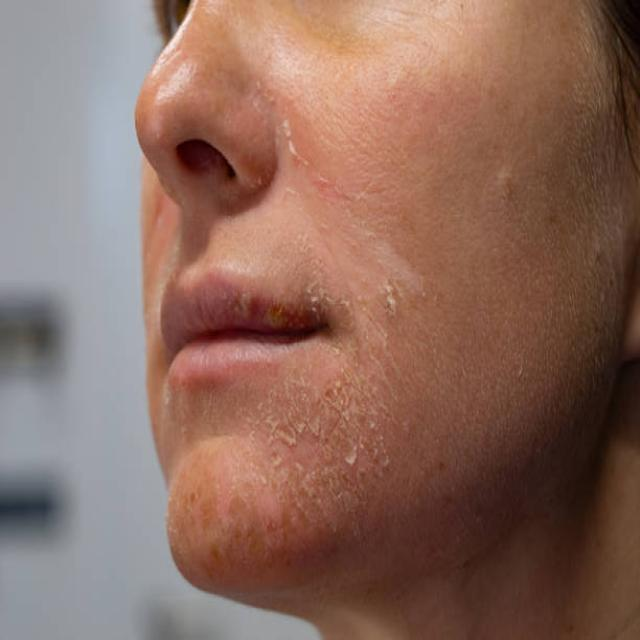flakiness: (258, 278, 406, 502)
